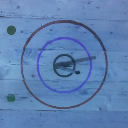Axe Tip: (60, 64, 72, 66)
